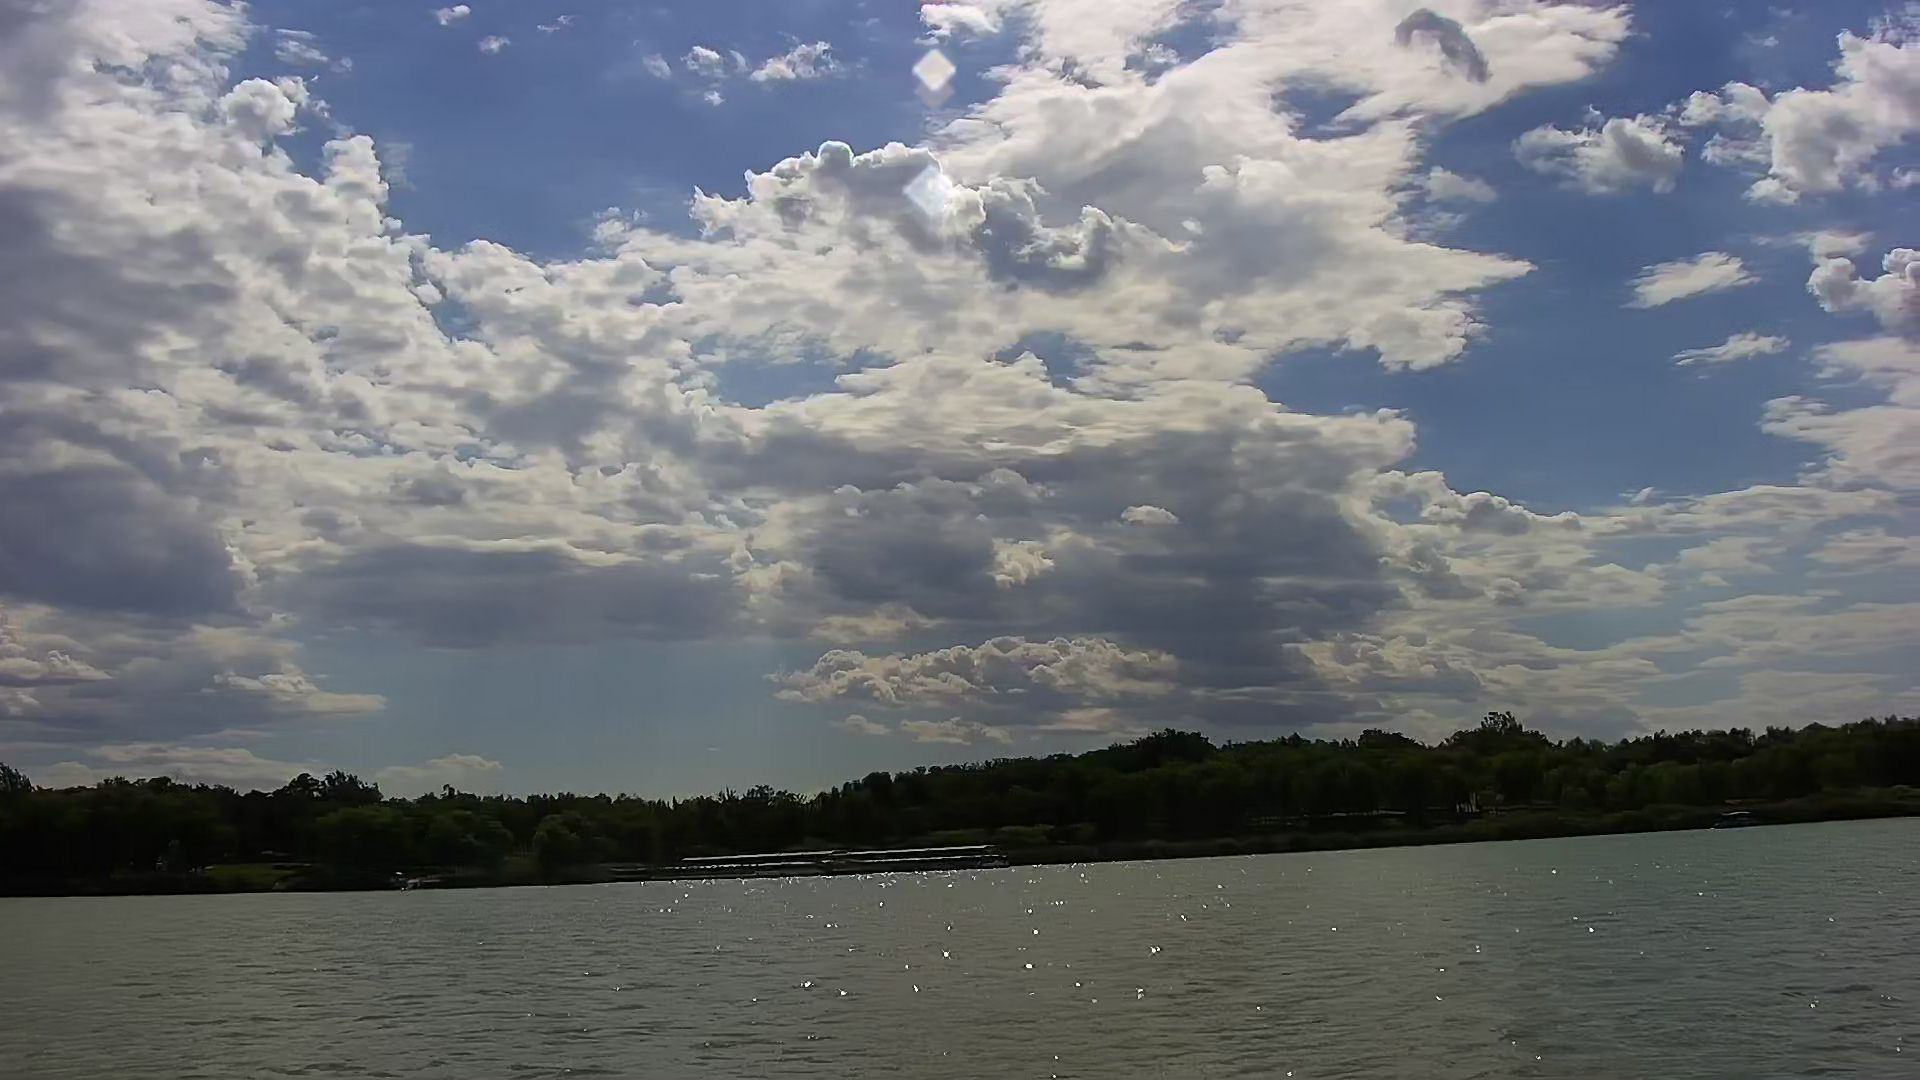harbor: (663, 837, 1002, 886)
